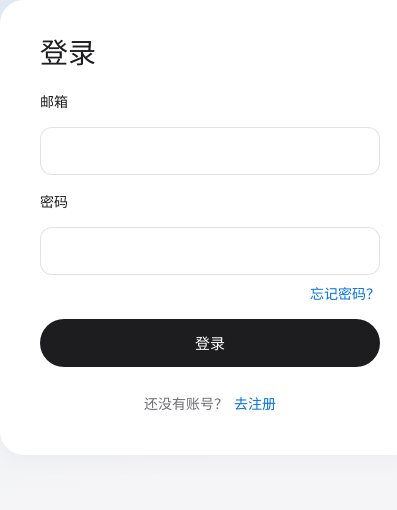
AuthForm › toggles to register mode
Click the button "去注册". click: (255, 403)
box: [234,391,276,415]
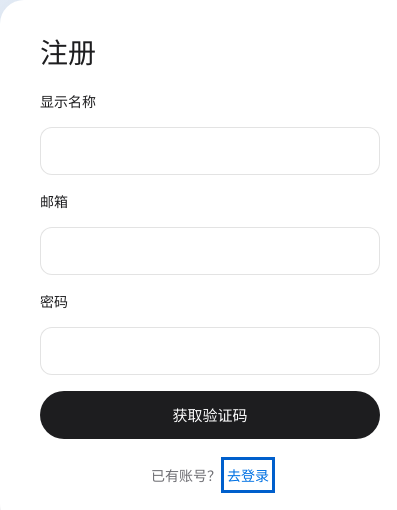
Result: the heading "注册" is shown at [40,40,96,67]
Result: the button "获取验证码" is shown at [40,391,380,439]
